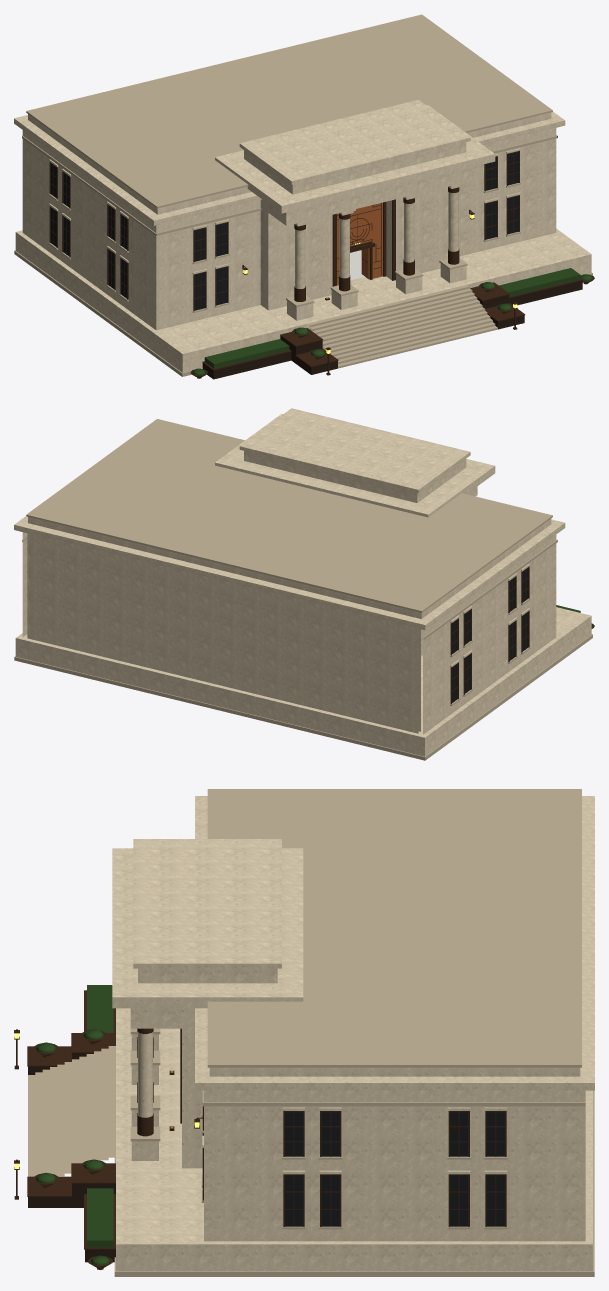
The model's file is civic_hall.glb.
3 renders of one model, top to bottom at view 1: azimuth 30°, elevation 25°; view 2: azimuth 150°, elevation 25°; view 3: azimuth 270°, elevation 25°, orthographic. The views are drawn at different scales.
Visible parts, largest first — view 1: civic_hall; view 2: civic_hall; view 3: civic_hall.
Boxes of the visible parts, x1,y1,x2,y2 form: civic_hall: (14, 14, 594, 379); civic_hall: (14, 408, 594, 760); civic_hall: (14, 789, 594, 1276).
Size of the model in its own units: 37 by 13.97 by 31.66.
14 materials, 2 textured.
